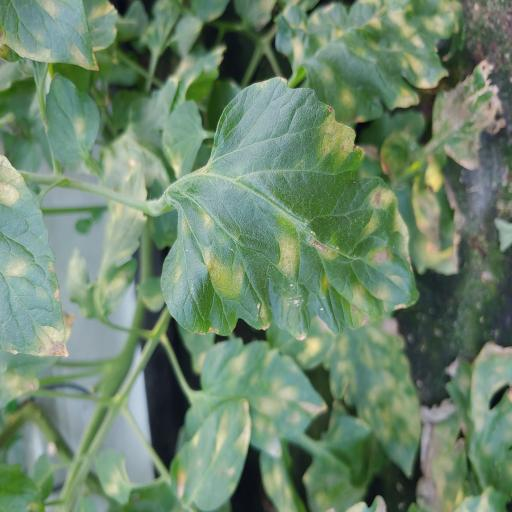Leaf Mold: (162, 78, 418, 343), (291, 0, 463, 126), (199, 335, 328, 459), (322, 323, 421, 480), (0, 152, 74, 361), (168, 398, 251, 512), (0, 0, 99, 75)
